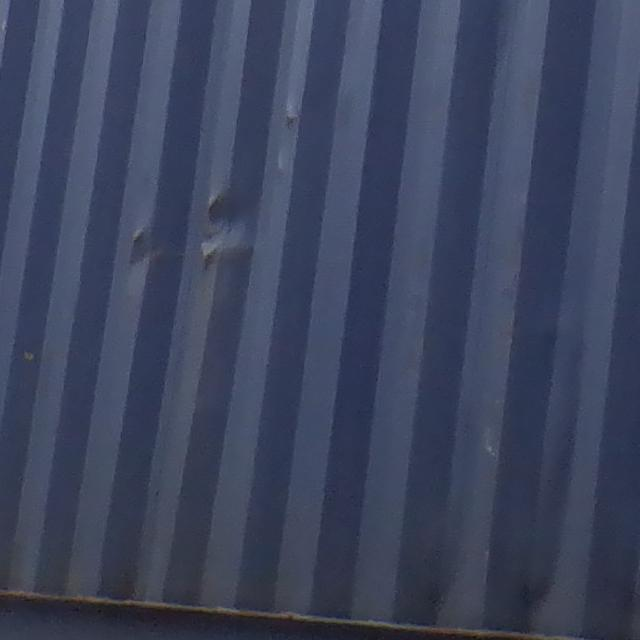dent: (180, 194, 265, 266), (120, 227, 164, 287)
